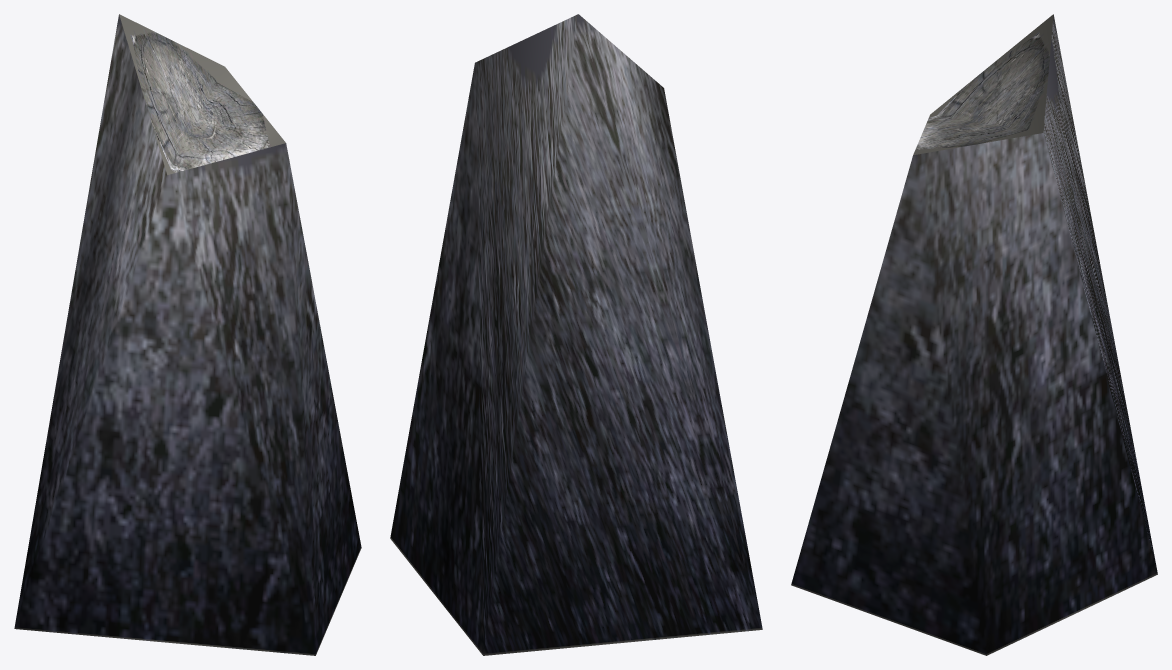
File: decd_massassistump_l3.fbx
3 renders of one model, left to right at view 1: azimuth 30°, elevation 25°; view 2: azimuth 150°, elevation 25°; view 3: azimuth 270°, elevation 25°, orthographic. The views are drawn at different scales.
Visible parts, largest first — view 1: mesh_node; view 2: mesh_node; view 3: mesh_node.
Part boxes in pixels (x1,y1,x2,y2): mesh_node: (14, 14, 361, 655); mesh_node: (390, 14, 762, 655); mesh_node: (791, 14, 1157, 655).
Size of the model in its own units: 13.89 by 21.54 by 13.16.
